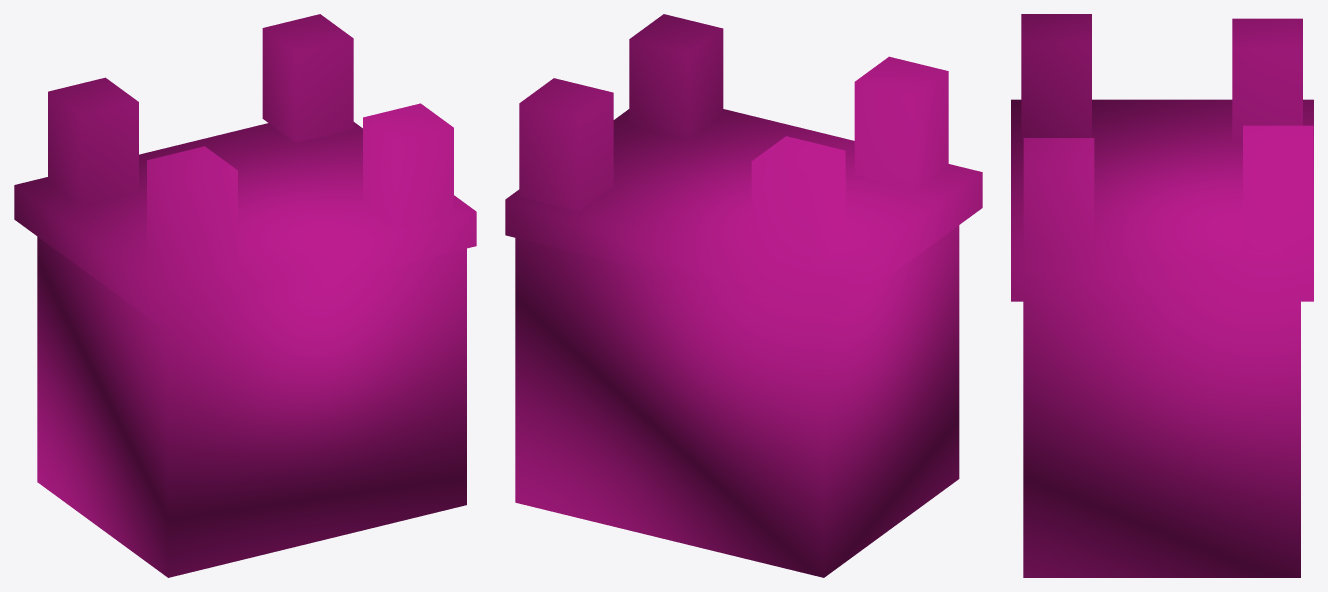
The model's file is ps2_jrpg_fortress_tower_bastion.obj.
3 renders of one model, left to right at view 1: azimuth 30°, elevation 25°; view 2: azimuth 150°, elevation 25°; view 3: azimuth 270°, elevation 25°, orthographic. The views are drawn at different scales.
Size of the model in its own units: 1.55 by 1.82 by 1.2.
